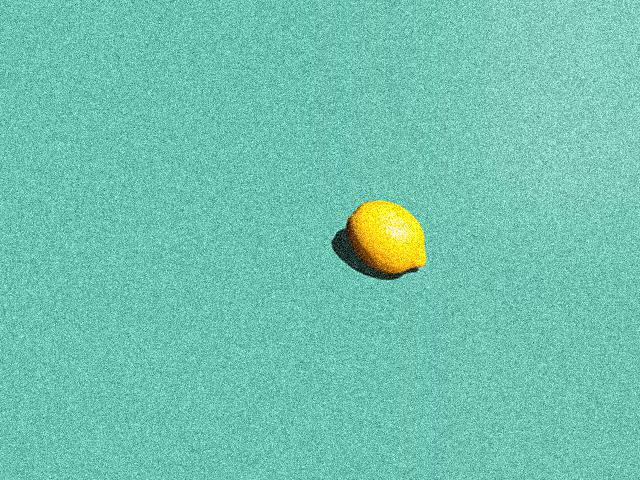lemon: (327, 196, 434, 282)
